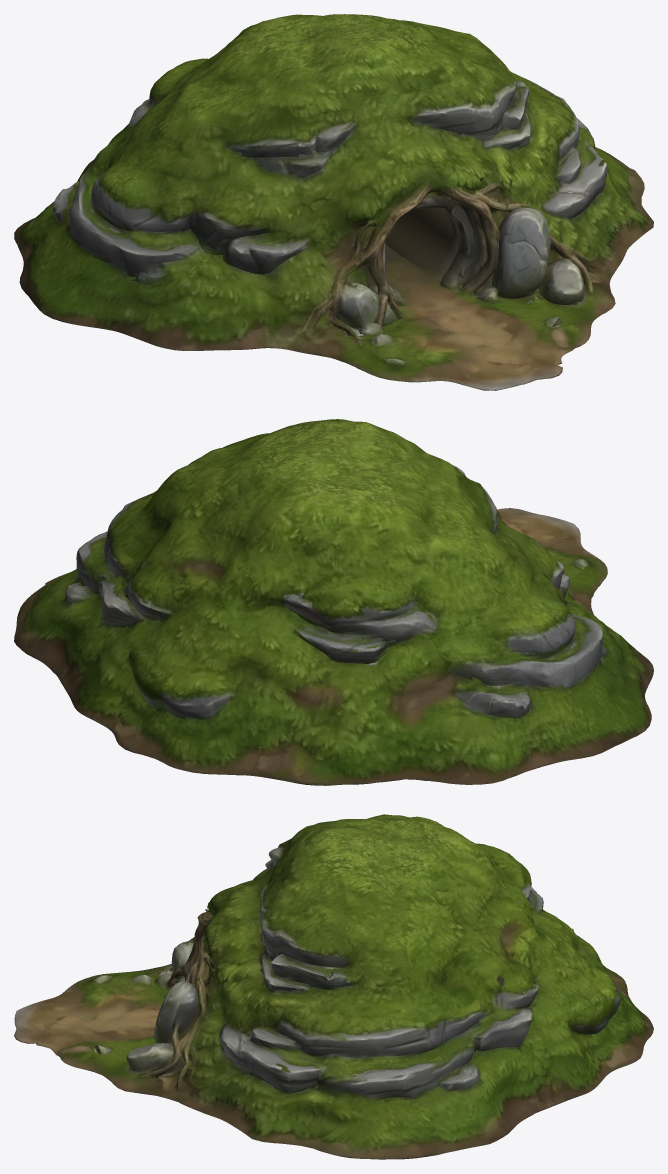
Rendered from meadows_burrow_mound.glb.
The picture shows the model from 3 angles, top to bottom: view 1: azimuth 30°, elevation 25°; view 2: azimuth 150°, elevation 25°; view 3: azimuth 270°, elevation 25°; orthographic projection. The views are drawn at different scales.
Visible parts, largest first — view 1: Mesh_0; view 2: Mesh_0; view 3: Mesh_0.
Part boxes in pixels (box(x1,y1,x2,y2)): Mesh_0: box(14, 14, 653, 390); Mesh_0: box(14, 419, 653, 785); Mesh_0: box(14, 814, 653, 1159).
Bounding box in the file's own units: 1.87 × 0.6441 × 1.9.
1 material, 1 textured.
